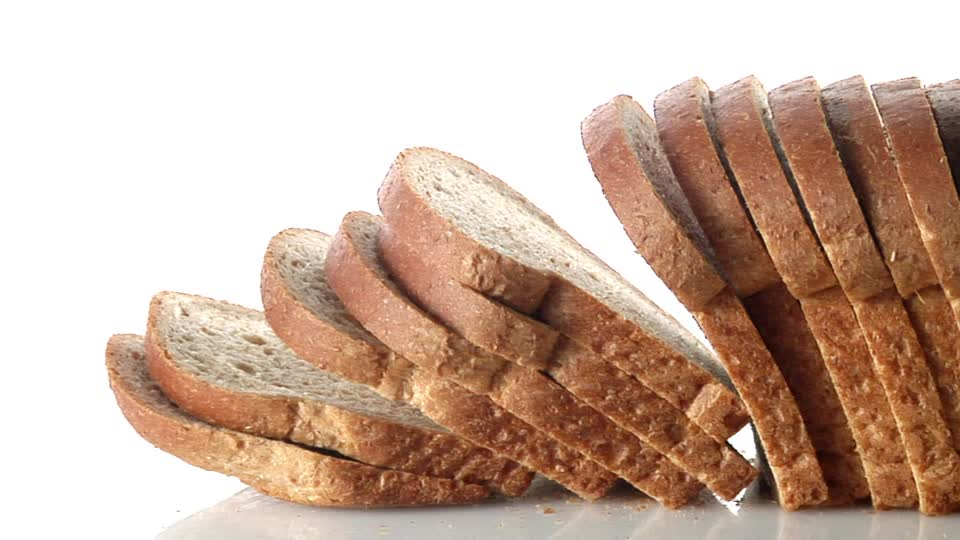slice of bread: (377, 130, 711, 538)
